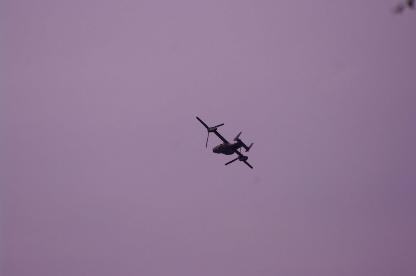Tornado: (195, 116, 252, 168)
